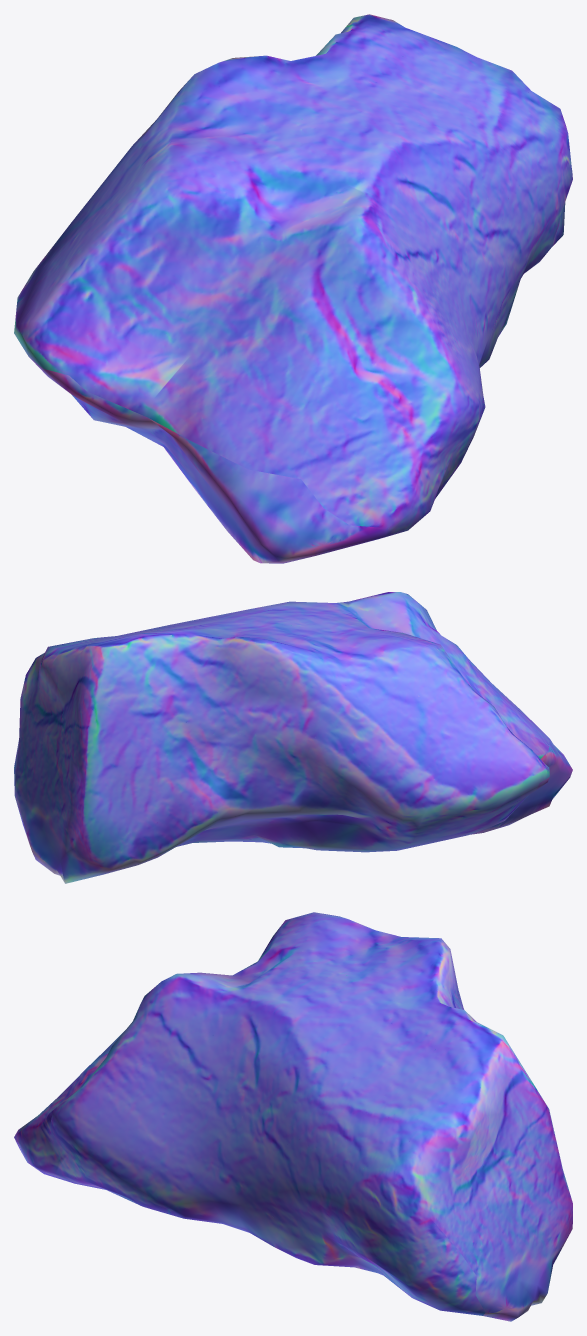
The model's file is Rock008.fbx.
3 views of the same model, one above another, from view 1: azimuth 30°, elevation 25°; view 2: azimuth 150°, elevation 25°; view 3: azimuth 270°, elevation 25° (orthographic). The views are drawn at different scales.
Visible parts, largest first — view 1: Rock08_LOD0; view 2: Rock08_LOD0; view 3: Rock08_LOD0.
Part boxes in pixels (bbox=[...]): Rock08_LOD0: bbox=[14, 14, 572, 563]; Rock08_LOD0: bbox=[14, 592, 572, 883]; Rock08_LOD0: bbox=[14, 912, 572, 1321].
Size of the model in its own units: 87.75 by 44.4 by 81.63.
